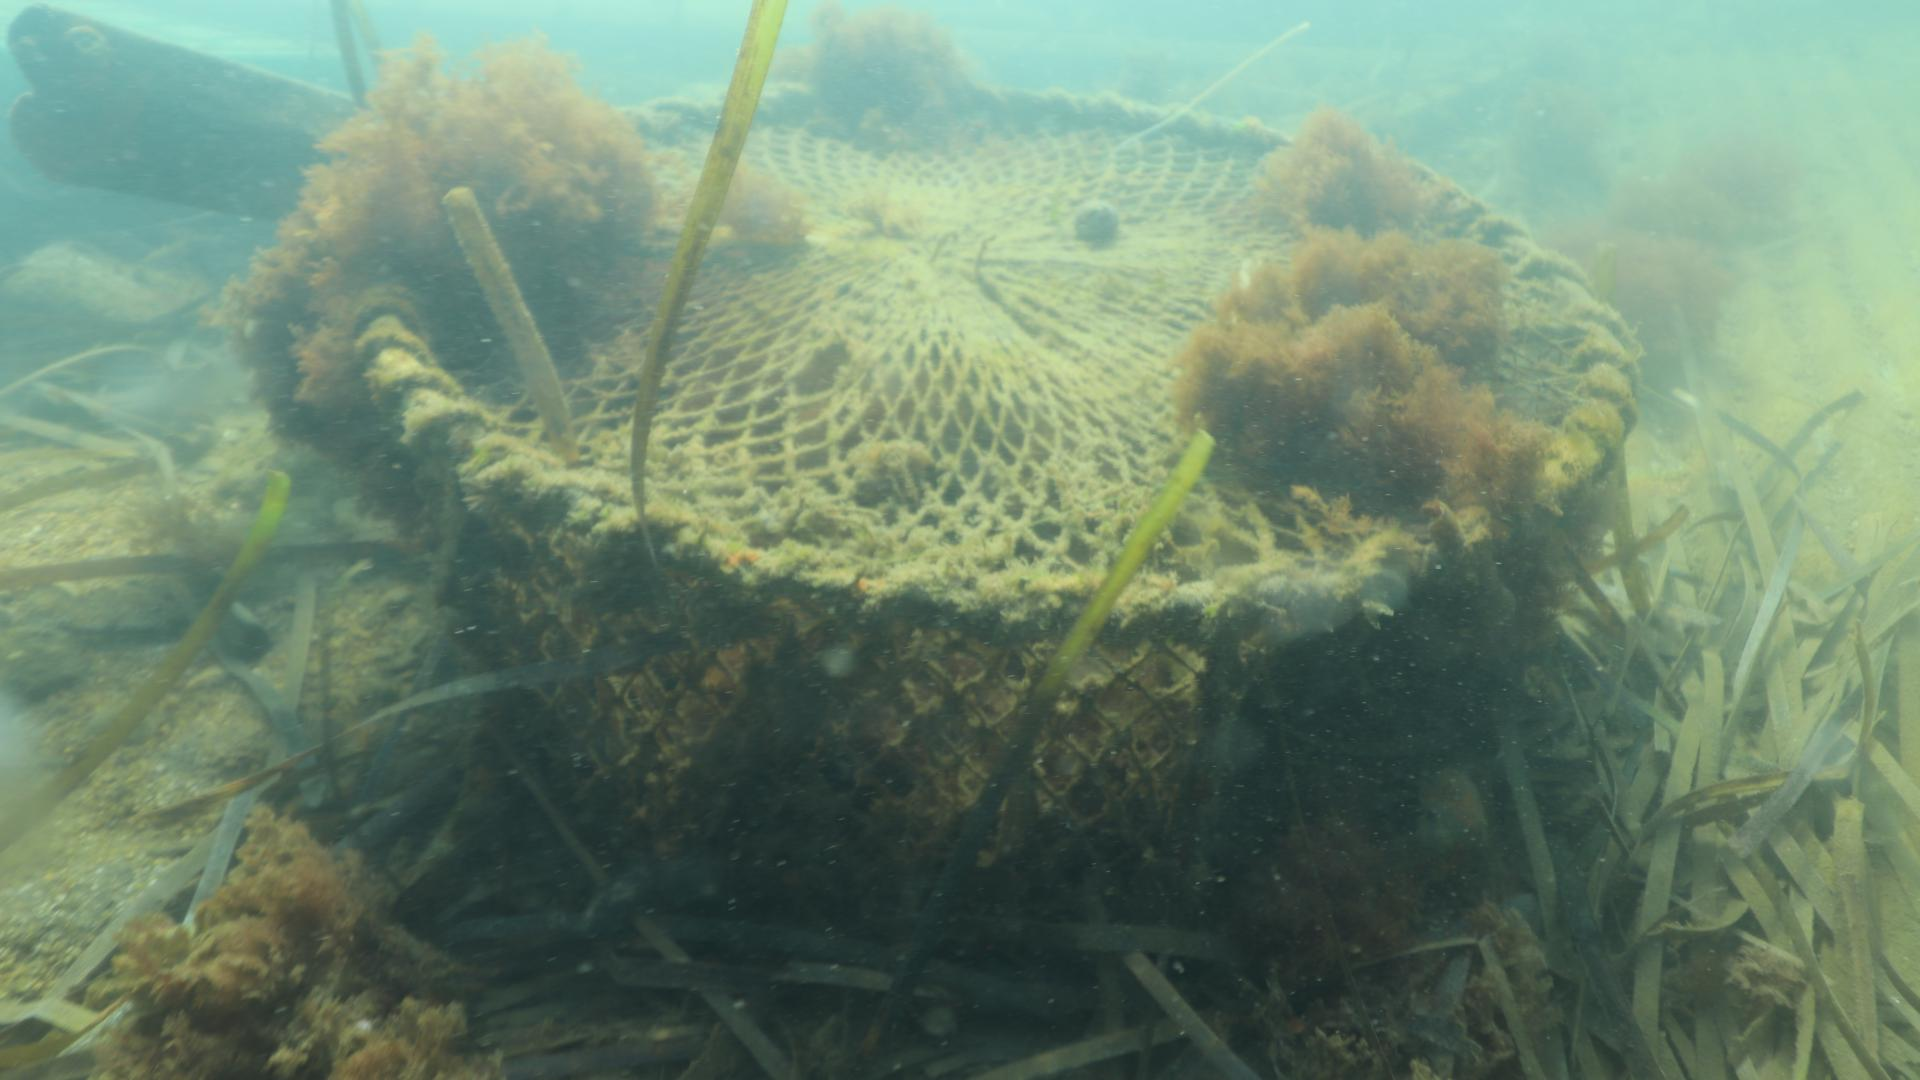circular fish trap: (342, 76, 1643, 914)
